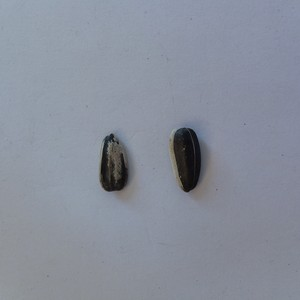girasol: (164, 124, 206, 194), (98, 130, 130, 198)
